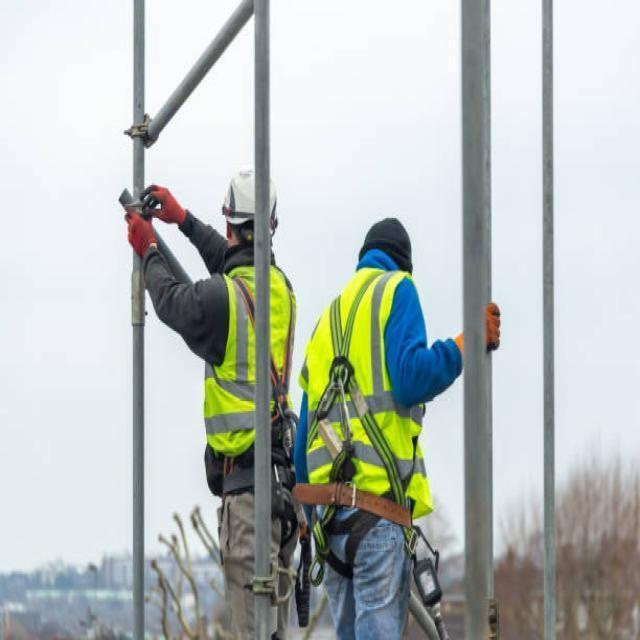Arnes_seguridad: (300, 273, 418, 563), (222, 268, 296, 545)
